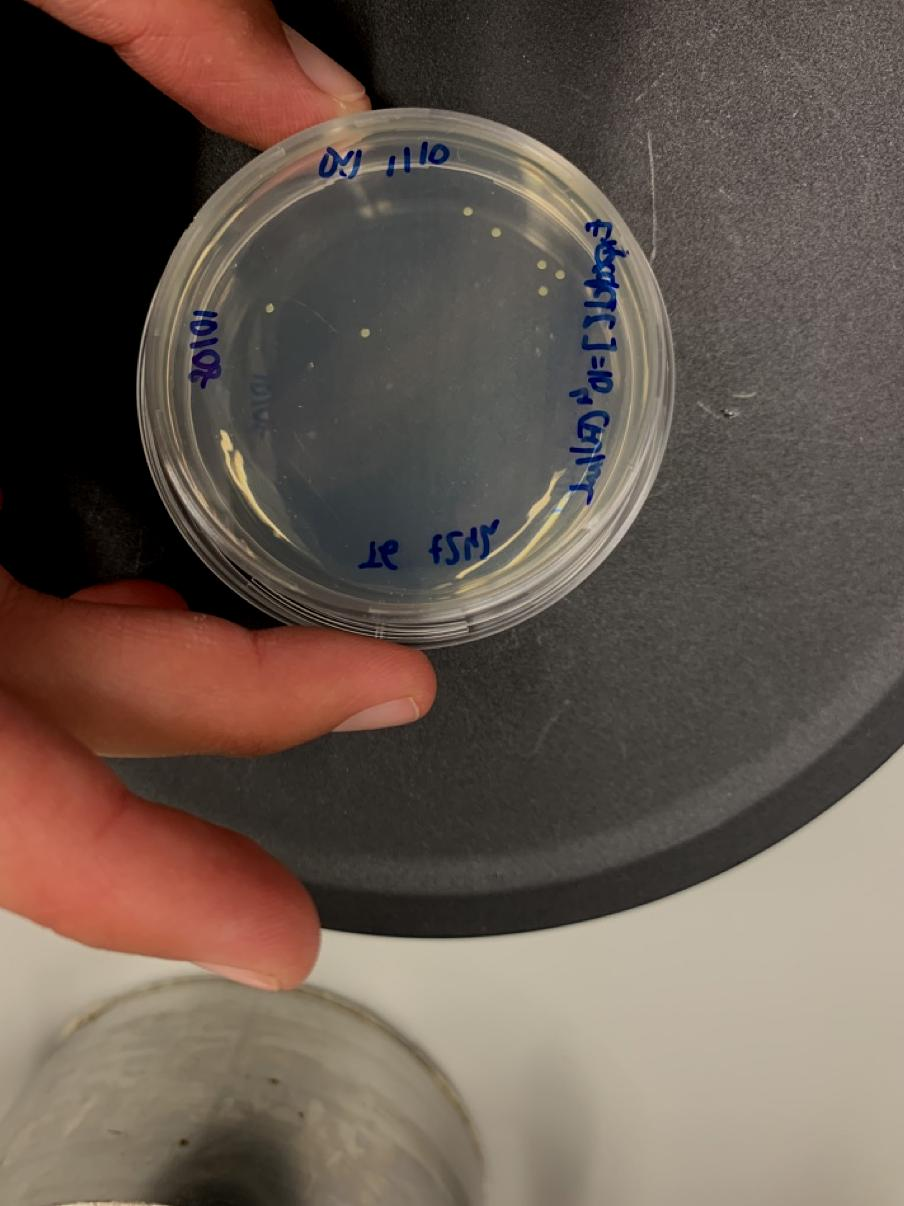colony: (490, 225, 502, 238), (535, 258, 547, 271), (554, 268, 566, 281), (360, 327, 371, 340), (538, 285, 549, 297), (265, 302, 275, 315), (462, 205, 472, 218)
